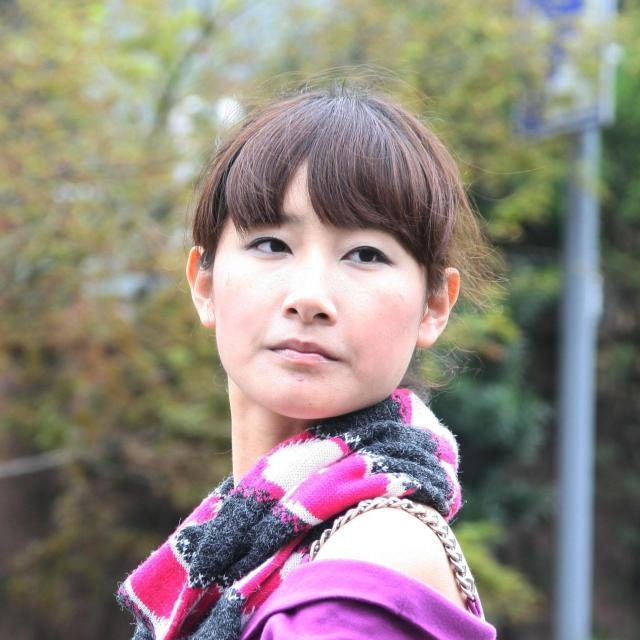no-glass: (243, 231, 396, 275)
